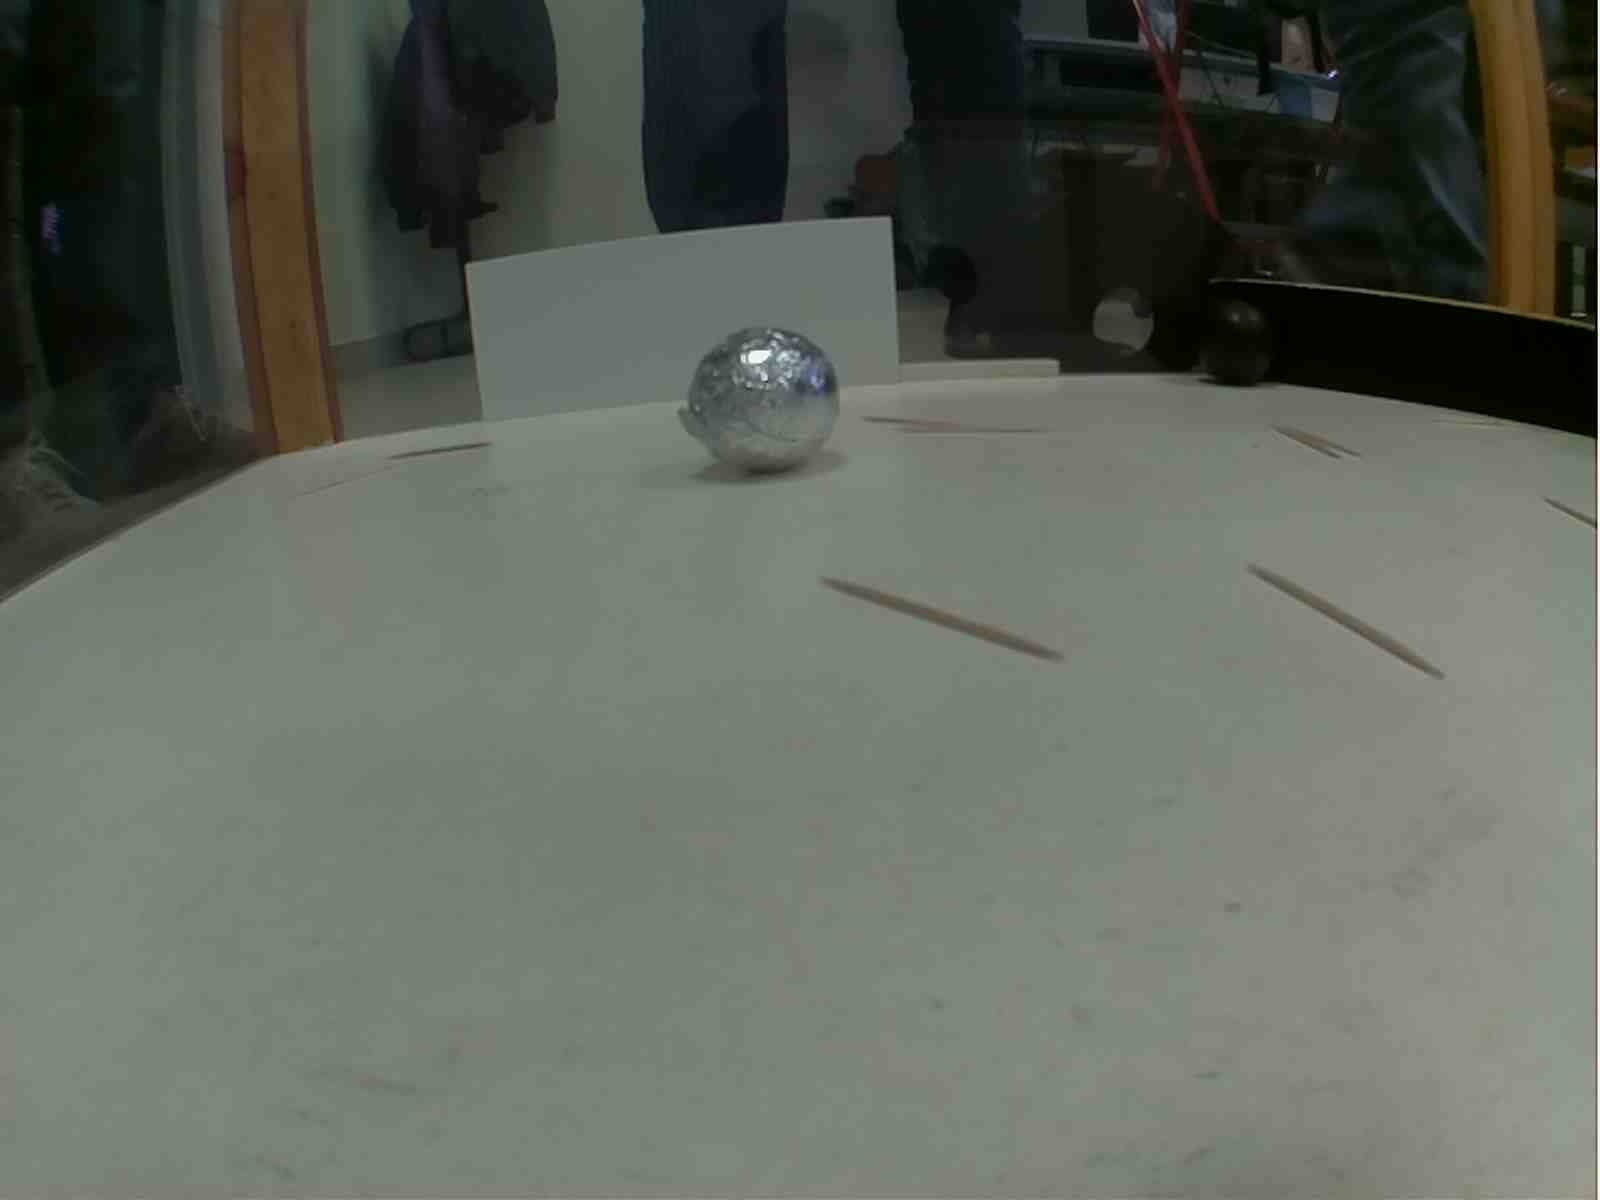bianca: (682, 326, 842, 478)
nera: (1196, 294, 1295, 395)
